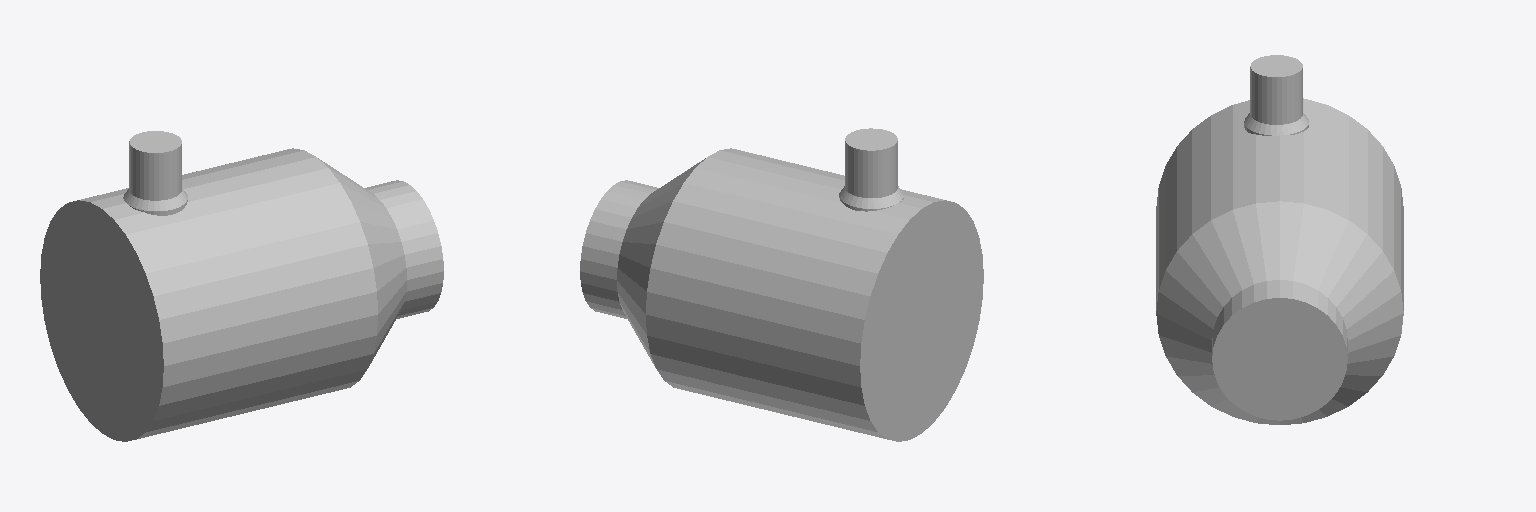
Rendered from filter.obj.
The picture shows the model from 3 angles: view 1: azimuth 30°, elevation 25°; view 2: azimuth 150°, elevation 25°; view 3: azimuth 270°, elevation 25°; orthographic projection.
Visible parts, largest first — view 1: Cylinder; view 2: Cylinder; view 3: Cylinder.
Part boxes in pixels (bbox=[...]): Cylinder: bbox=[40, 131, 443, 441]; Cylinder: bbox=[580, 128, 983, 441]; Cylinder: bbox=[1156, 55, 1403, 424].
Size of the model in its own units: 2.88 by 2.5 by 2.